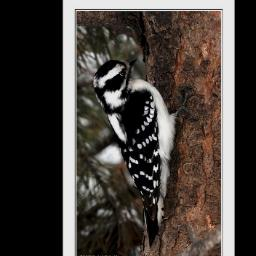Woodpecker: (93, 60, 192, 254)
